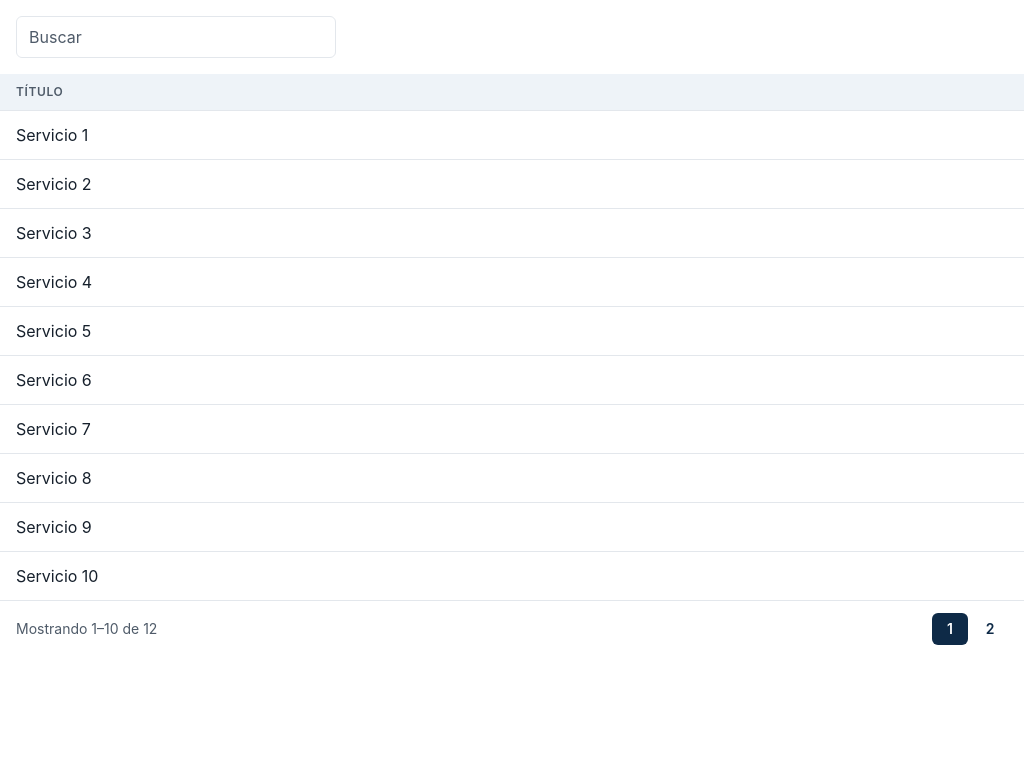
Test: avisa cuando nada coincide
Type "zzz" into the search field labelled "Buscar". click: (176, 37)
box: x1=16 y1=16 x2=336 y2=58
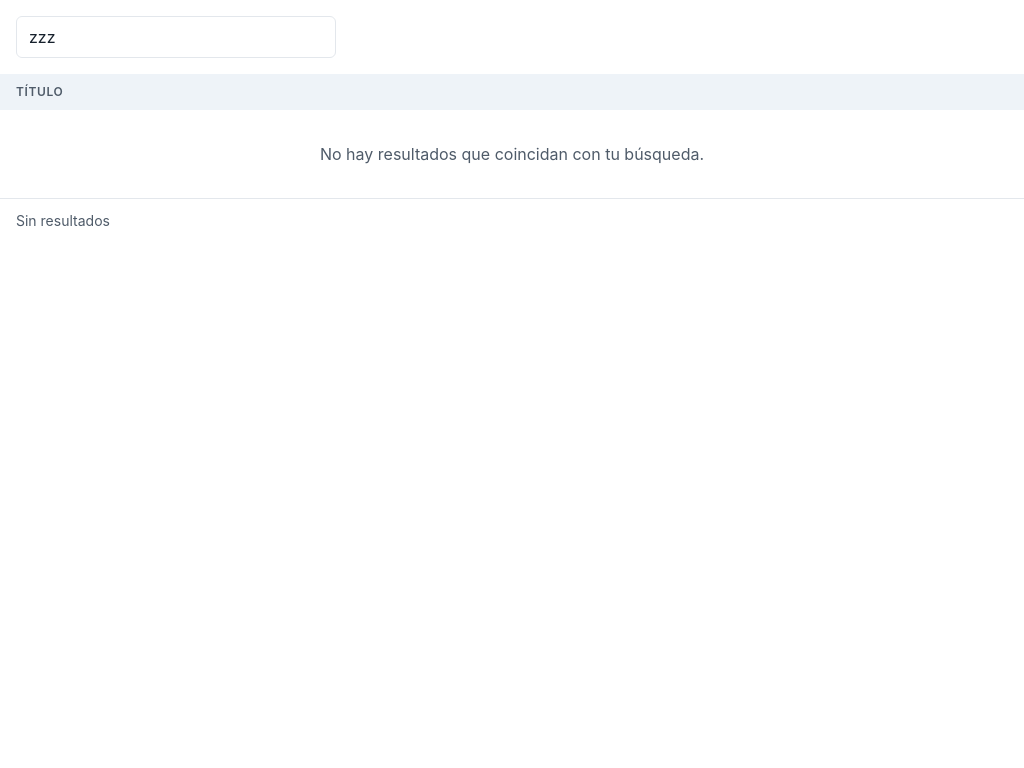
Expected: the text "No hay resultados que coincidan con tu búsqueda." is shown, x1=320 y1=144 x2=704 y2=164
